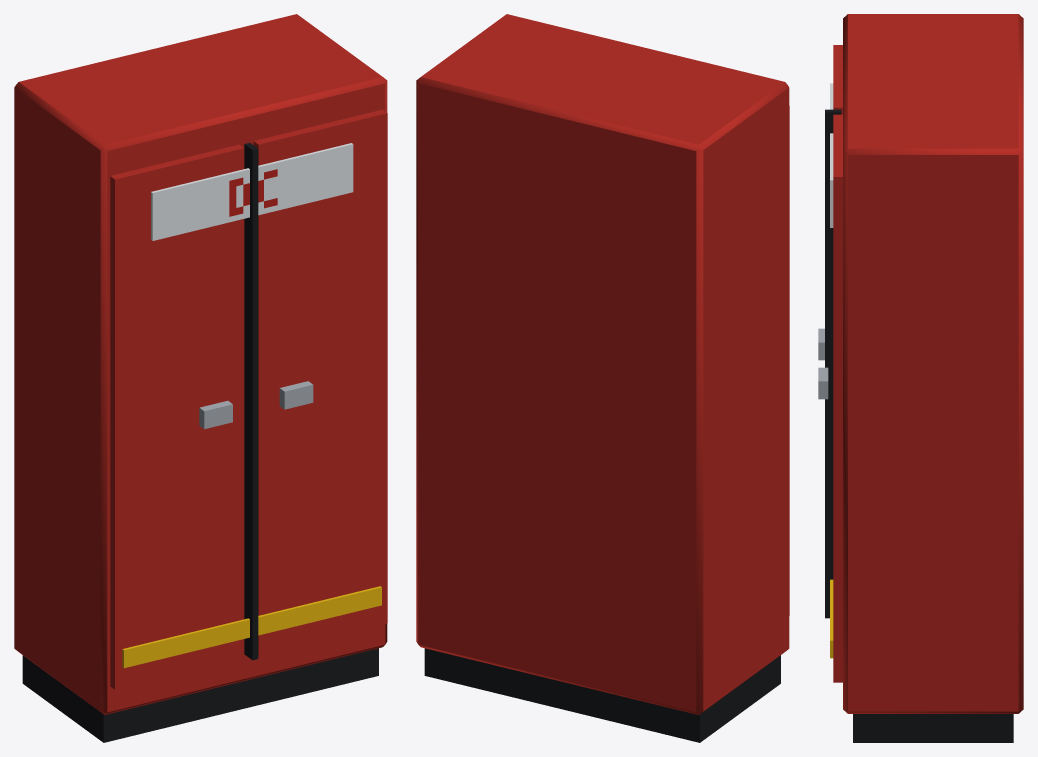
Rendered from safety_damage_control_locker.glb.
3 renders of one model, left to right at view 1: azimuth 30°, elevation 25°; view 2: azimuth 150°, elevation 25°; view 3: azimuth 270°, elevation 25°, orthographic.
Parts seen in each view (by area): view 1: safety_damage_control_locker; view 2: safety_damage_control_locker; view 3: safety_damage_control_locker.
Part boxes in pixels (box(x1,y1,x2,y2)): safety_damage_control_locker: box(14, 14, 387, 742); safety_damage_control_locker: box(416, 14, 789, 742); safety_damage_control_locker: box(818, 14, 1023, 742).
Bounding box in the file's own units: 1 × 2 × 0.625.
